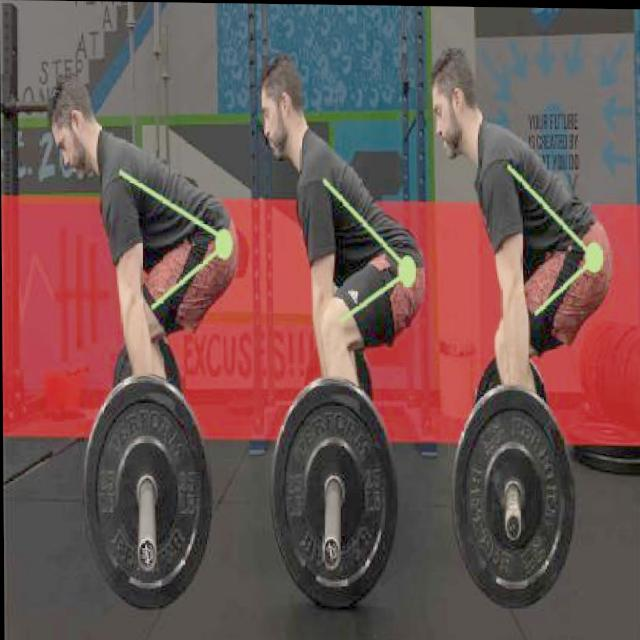barbell: (68, 374, 218, 616), (263, 371, 402, 613), (444, 378, 579, 615)
